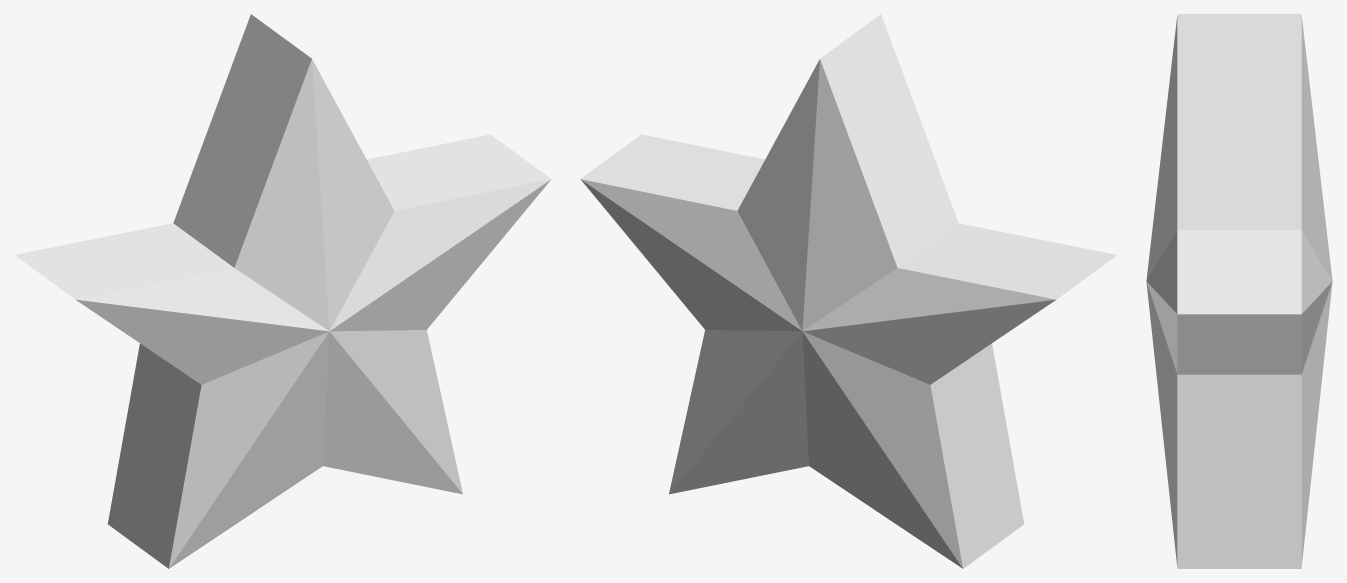
The model's file is star.fbx.
The picture shows the model from 3 angles, left to right: view 1: azimuth 30°, elevation 25°; view 2: azimuth 150°, elevation 25°; view 3: azimuth 270°, elevation 25°; orthographic projection.
Parts seen in each view (by area): view 1: cylinder; view 2: cylinder; view 3: cylinder.
Part boxes in pixels (bbox=[...]): cylinder: bbox=[15, 14, 551, 568]; cylinder: bbox=[580, 14, 1116, 568]; cylinder: bbox=[1146, 14, 1332, 568].
Bounding box in the file's own units: 112 × 107 × 37.5.
Materials: 1 (1 with a texture image).
